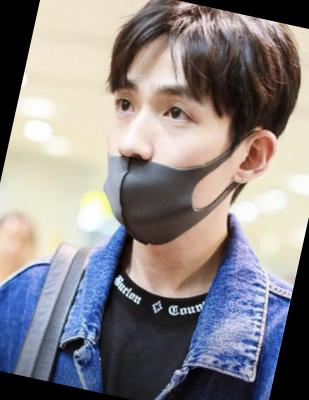mask_weared_incorrect: (81, 69, 236, 258)
